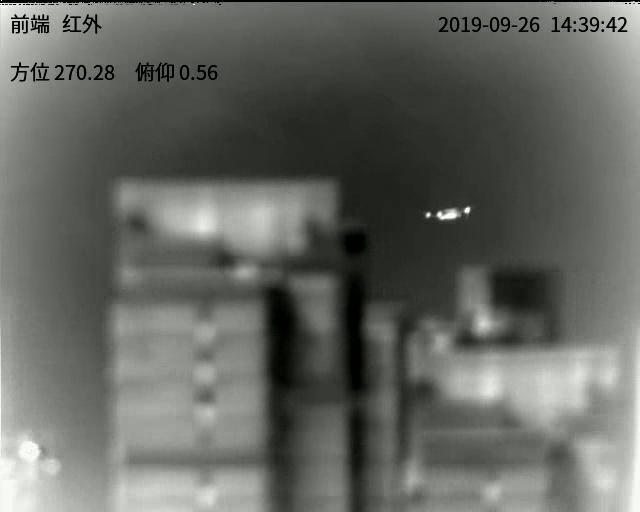DRONE: (421, 204, 475, 222)
